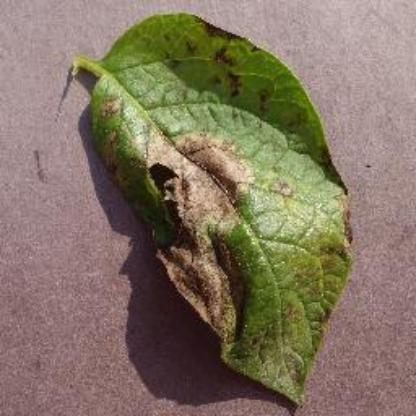Late-Blight: (61, 13, 371, 400)
